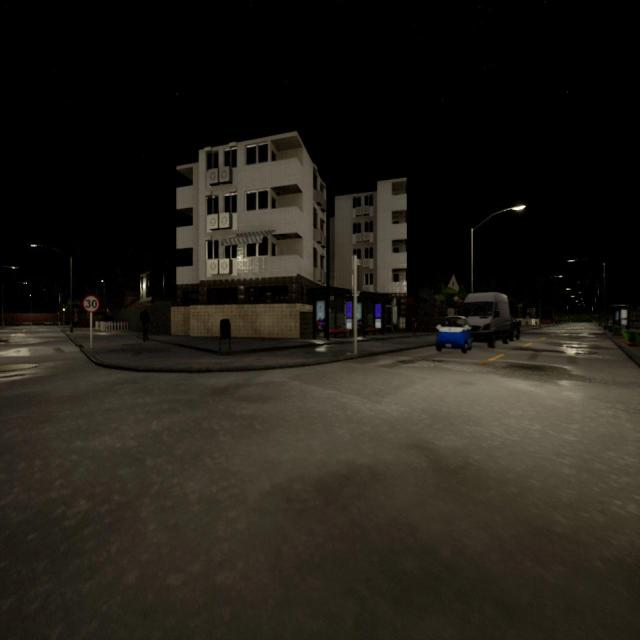Pedestrian: (140, 306, 150, 341)
Traffic_Signs: (82, 295, 99, 313)
Vehicle: (460, 292, 510, 346), (435, 316, 473, 354)
traffic_light: (357, 265, 363, 291), (63, 306, 65, 313), (58, 312, 59, 316)
